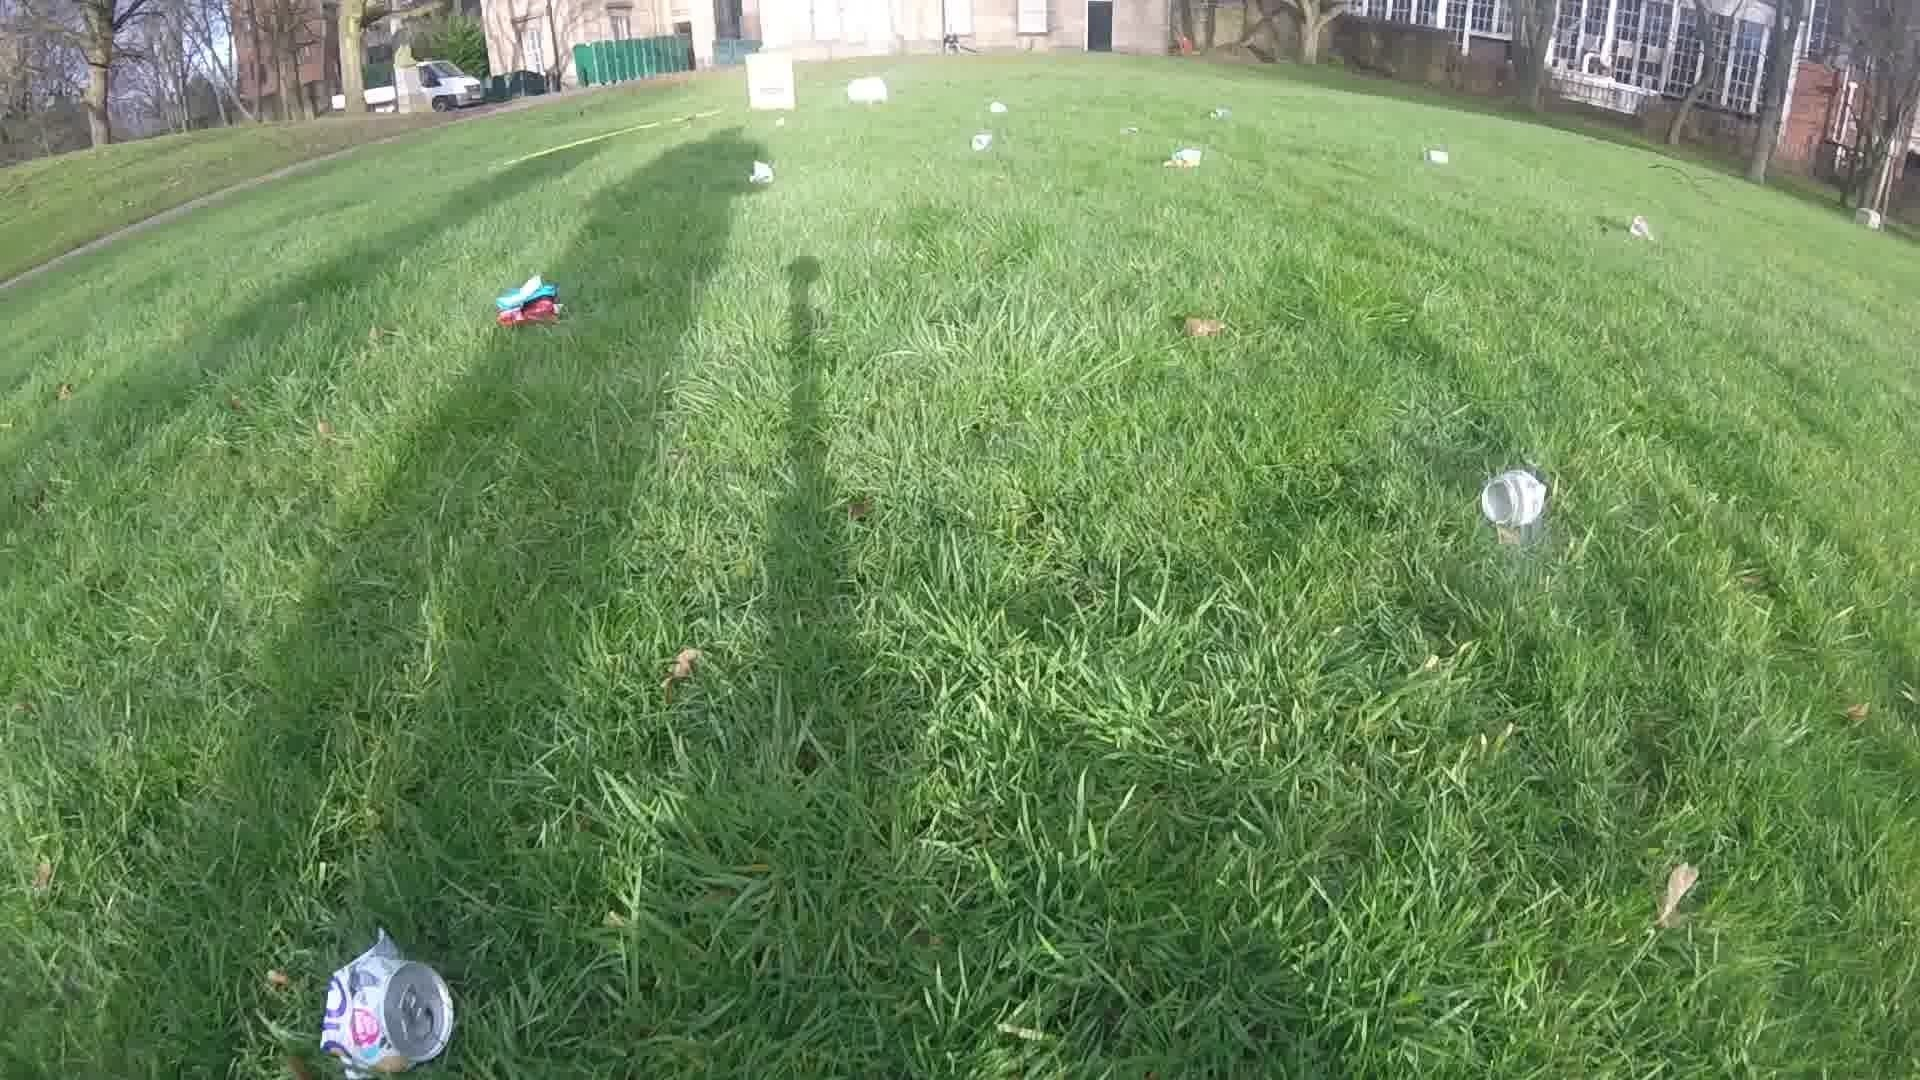litter: (324, 936, 454, 1073), (1477, 472, 1548, 521), (493, 277, 560, 327), (744, 53, 796, 109), (847, 76, 889, 103), (1160, 149, 1204, 169), (749, 160, 775, 185), (1629, 219, 1654, 243), (969, 131, 993, 152), (1420, 148, 1449, 165), (982, 99, 1007, 112), (1205, 108, 1228, 120)
